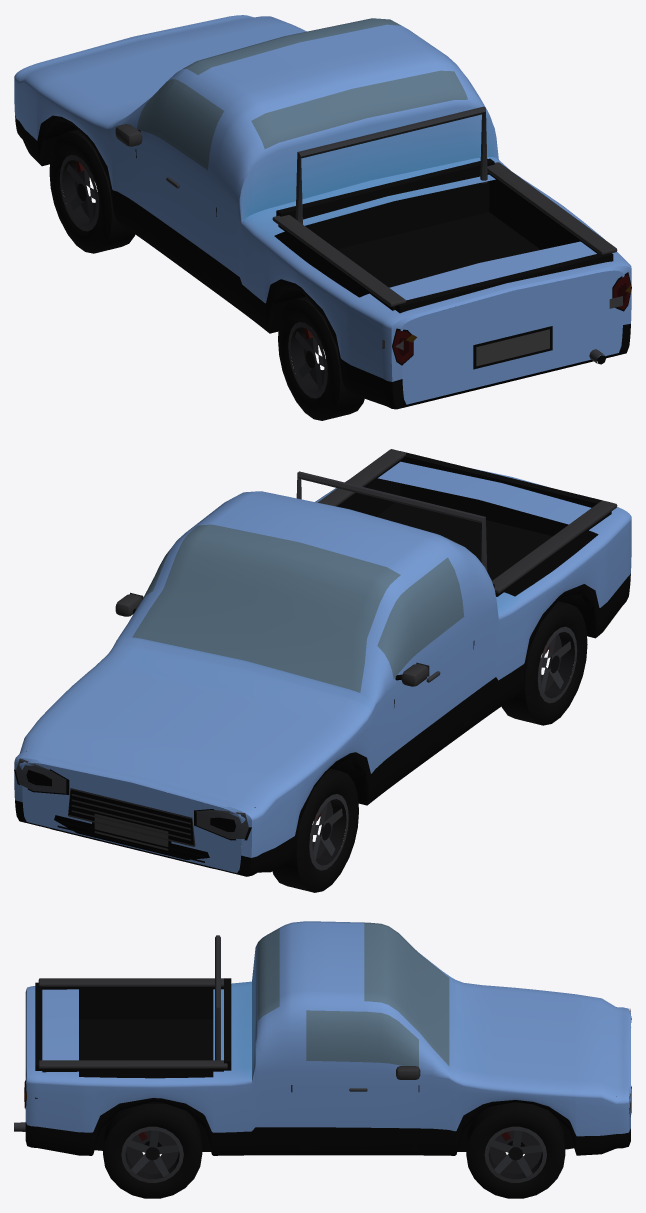
Rendered from cv2_pickup.glb.
3 views of the same model, one above another, from view 1: azimuth 30°, elevation 25°; view 2: azimuth 150°, elevation 25°; view 3: azimuth 270°, elevation 25° (orthographic). The views are drawn at different scales.
Parts seen in each view (by area): view 1: Body, DoorL_Mesh; view 2: Body, DoorL_Mesh; view 3: Body, DoorR_Mesh.
Part boxes in pixels (box(x1,y1,x2,y2)): Body: box(14, 15, 631, 420); DoorL_Mesh: box(136, 79, 228, 288); Body: box(14, 449, 631, 892); DoorL_Mesh: box(379, 559, 473, 766); Body: box(14, 921, 631, 1198); DoorR_Mesh: box(292, 1011, 418, 1149).
Size of what is drawn, in the model's own units: 2.29 by 1.79 by 5.1.
